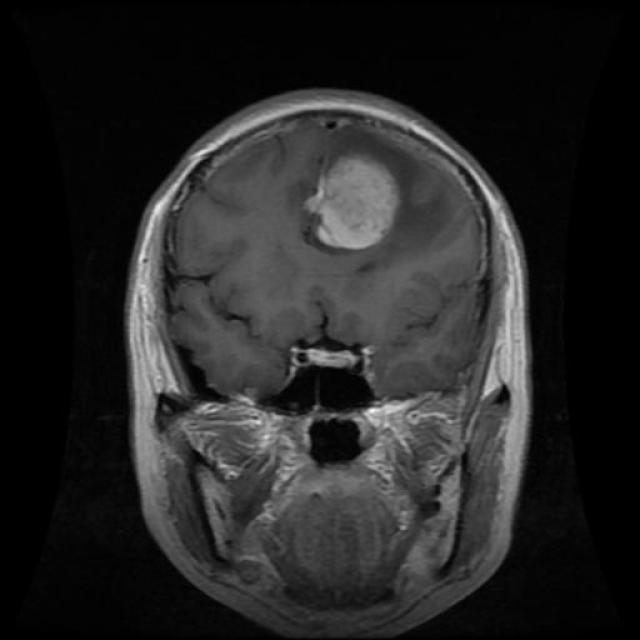meningioma: (304, 155, 400, 250)
